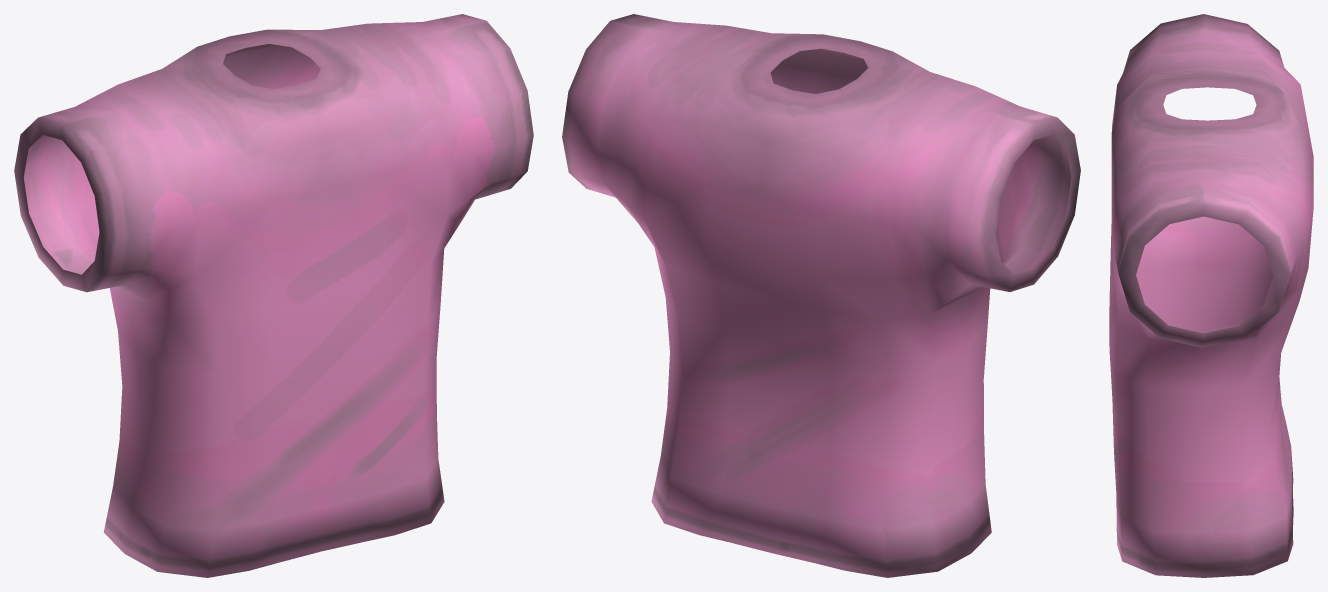
Rendered from t-shirt_pink.gltf.
3 renders of one model, left to right at view 1: azimuth 30°, elevation 25°; view 2: azimuth 150°, elevation 25°; view 3: azimuth 270°, elevation 25°, orthographic. The views are drawn at different scales.
Visible parts, largest first — view 1: T-Shirt_Pink; view 2: T-Shirt_Pink; view 3: T-Shirt_Pink.
Part boxes in pixels (left/top/right/bottom): T-Shirt_Pink: left=14, top=14, right=533, bottom=577; T-Shirt_Pink: left=562, top=14, right=1080, bottom=577; T-Shirt_Pink: left=1109, top=14, right=1313, bottom=577.
Bounding box in the file's own units: 0.6725 × 0.6806 × 0.3087.
